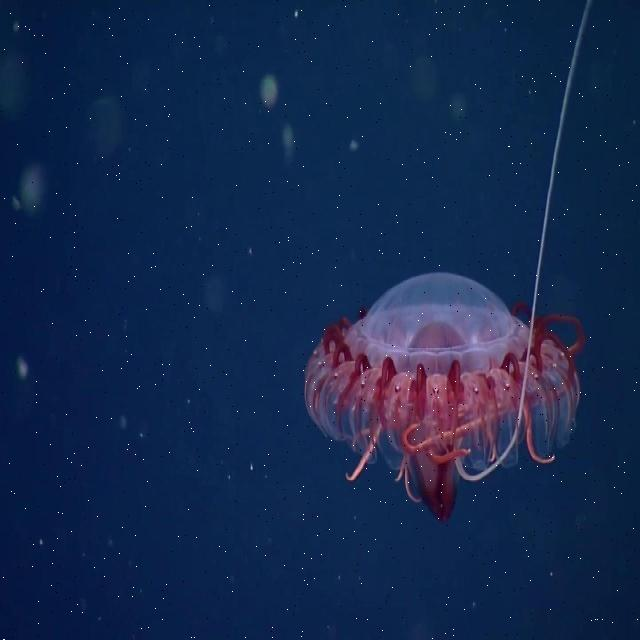reefs: (306, 1, 593, 520)
